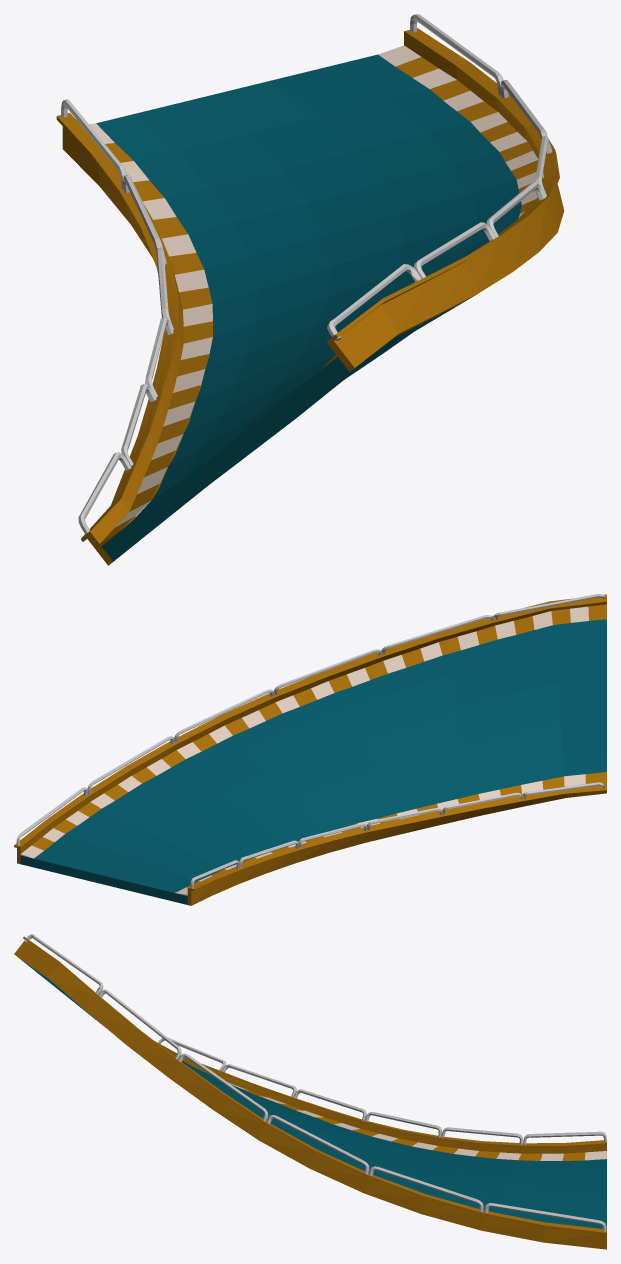
Rendered from curveRight-60-Banked-45.FBX.
The picture shows the model from 3 angles, top to bottom: view 1: azimuth 30°, elevation 25°; view 2: azimuth 150°, elevation 25°; view 3: azimuth 270°, elevation 25°; orthographic projection. The views are drawn at different scales.
Visible parts, largest first — view 1: curveRight-60-banked-45, wall_l, wall_r, curbs_r, curbs_l; view 2: curveRight-60-banked-45, wall_l, curbs_l, wall_r, curbs_r; view 3: wall_l, curveRight-60-banked-45, wall_r, curbs_r.
Boxes of the visible parts, box(x1,y1,x2,y2) form: curveRight-60-banked-45: box(96, 54, 521, 561); wall_l: box(326, 14, 564, 371); wall_r: box(56, 99, 183, 565); curbs_r: box(89, 123, 213, 545); curbs_l: box(320, 45, 544, 370); curveRight-60-banked-45: box(20, 619, 606, 904); wall_l: box(14, 594, 606, 864); curbs_l: box(20, 604, 606, 858); wall_r: box(187, 782, 606, 905); curbs_r: box(175, 772, 606, 895); wall_l: box(14, 934, 606, 1249); curveRight-60-banked-45: box(19, 958, 606, 1229); wall_r: box(155, 1037, 606, 1153); curbs_r: box(228, 1082, 606, 1160).
Size of what is drawn, in the model's own units: 437 by 171 by 558.
